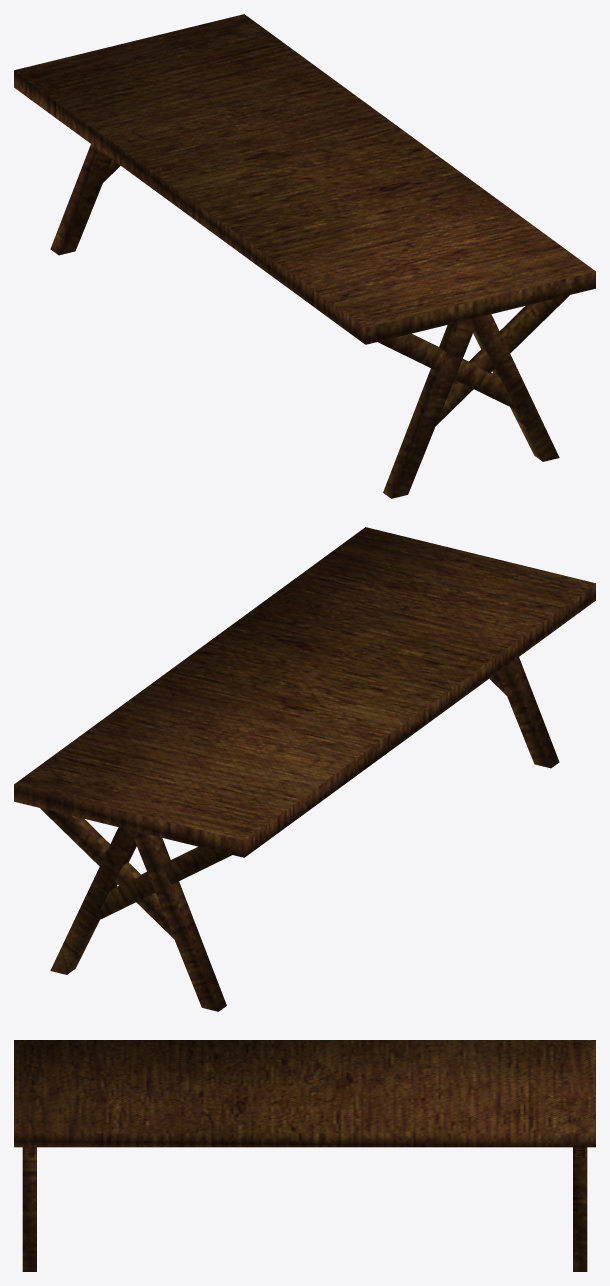
The model's file is Bench.glb.
3 views of the same model, one above another, from view 1: azimuth 30°, elevation 25°; view 2: azimuth 150°, elevation 25°; view 3: azimuth 270°, elevation 25° (orthographic). The views are drawn at different scales.
Visible parts, largest first — view 1: Bench; view 2: Bench; view 3: Bench.
Boxes of the visible parts, x1=… form: Bench: x1=14, y1=14, x2=595, y2=498; Bench: x1=14, y1=527, x2=595, y2=1011; Bench: x1=14, y1=1040, x2=595, y2=1271.
Bounding box in the file's own units: 0.56 × 0.4243 × 1.48.
1 material, 1 textured.
